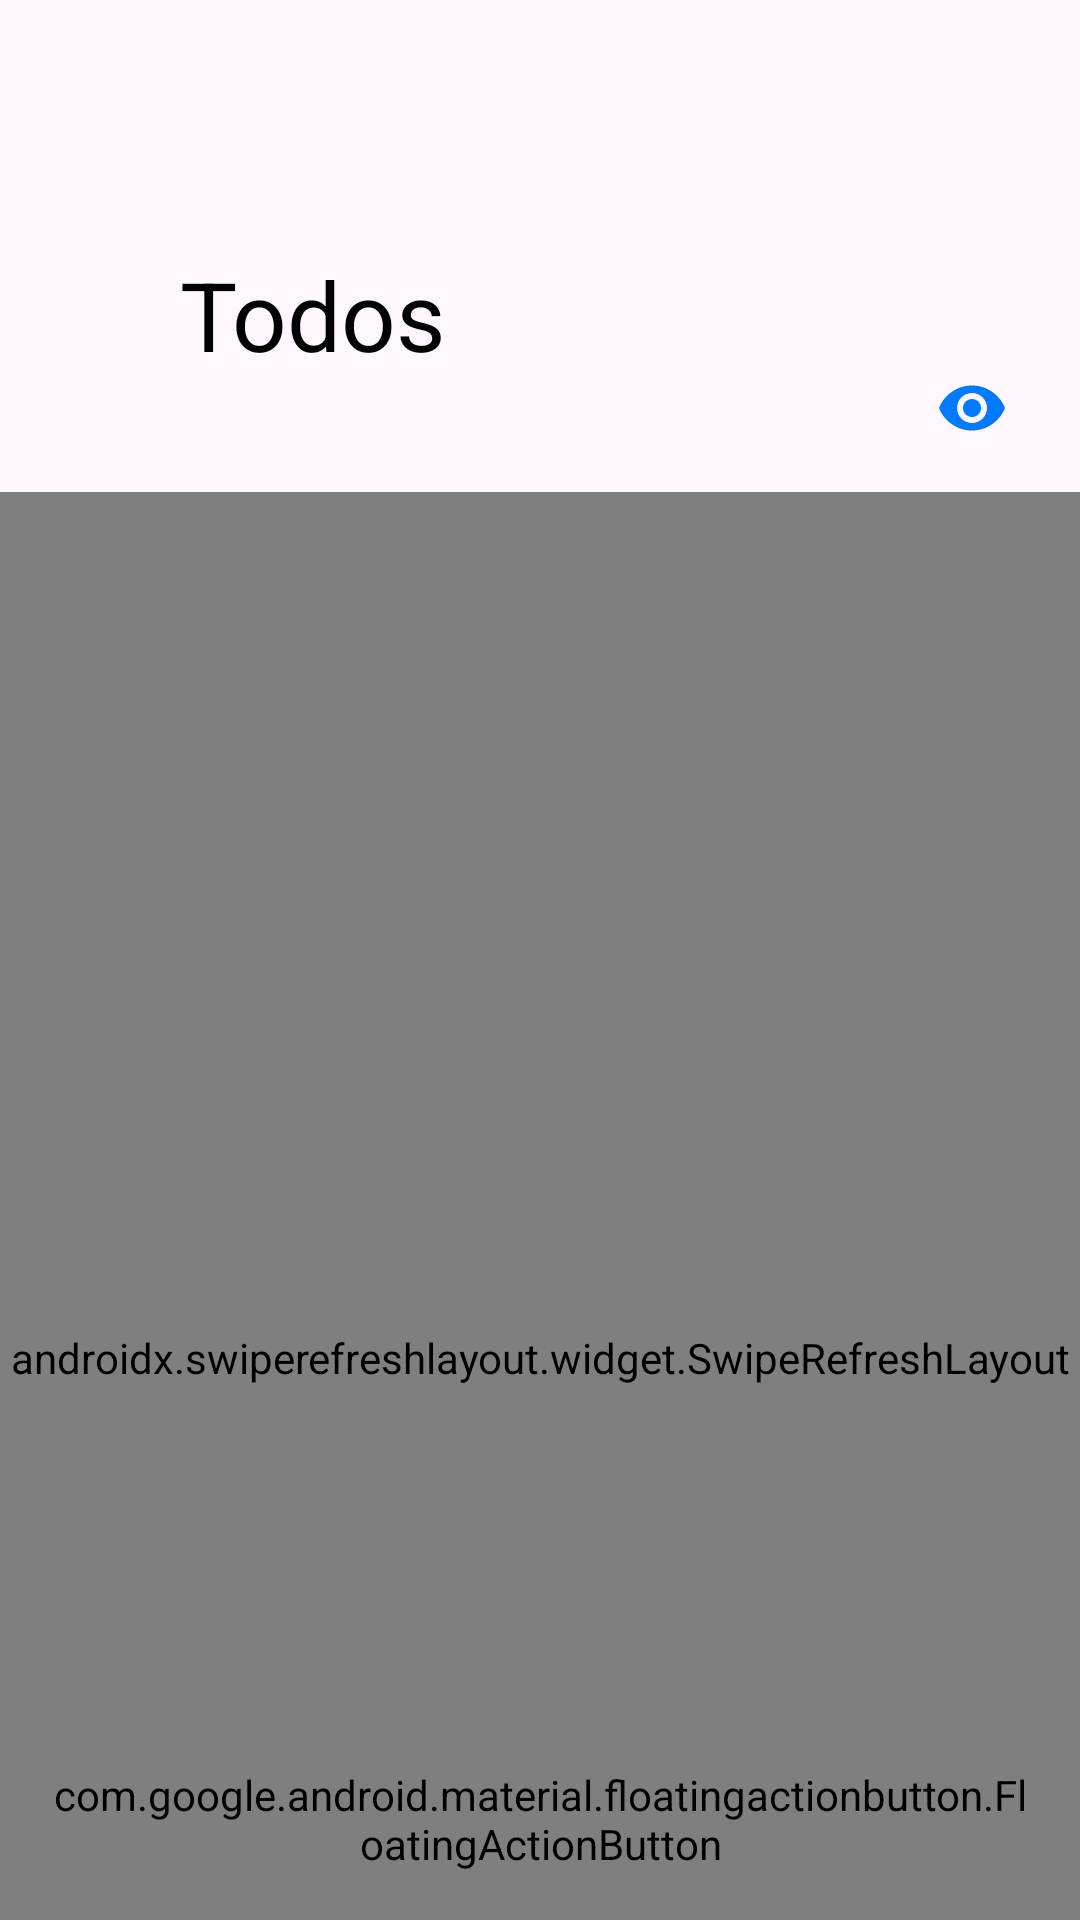

Point at icon controls on the screen. Image size 1080*1920, points as [x,y].
Show completed: [972,408]
